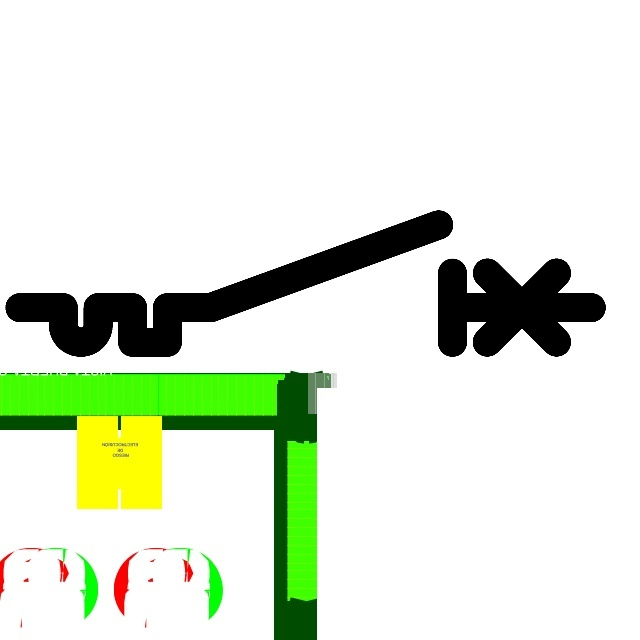interruptor_termomagnetico: (5, 210, 606, 357)
